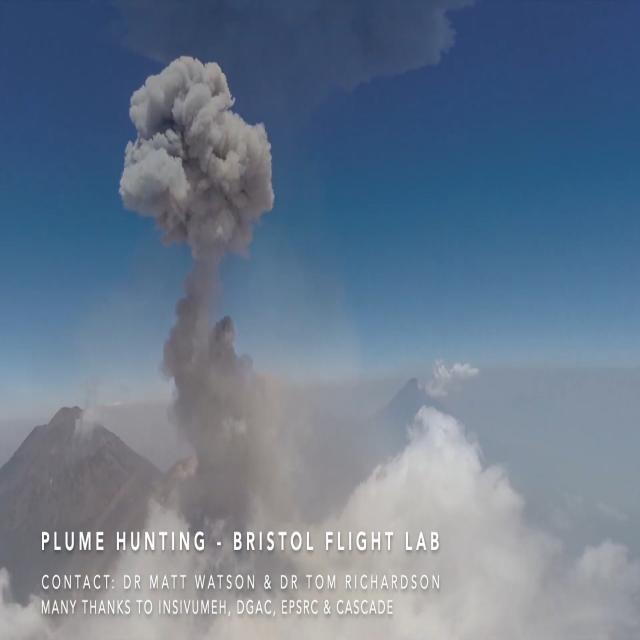Plume: (114, 48, 280, 262), (159, 272, 275, 507)
